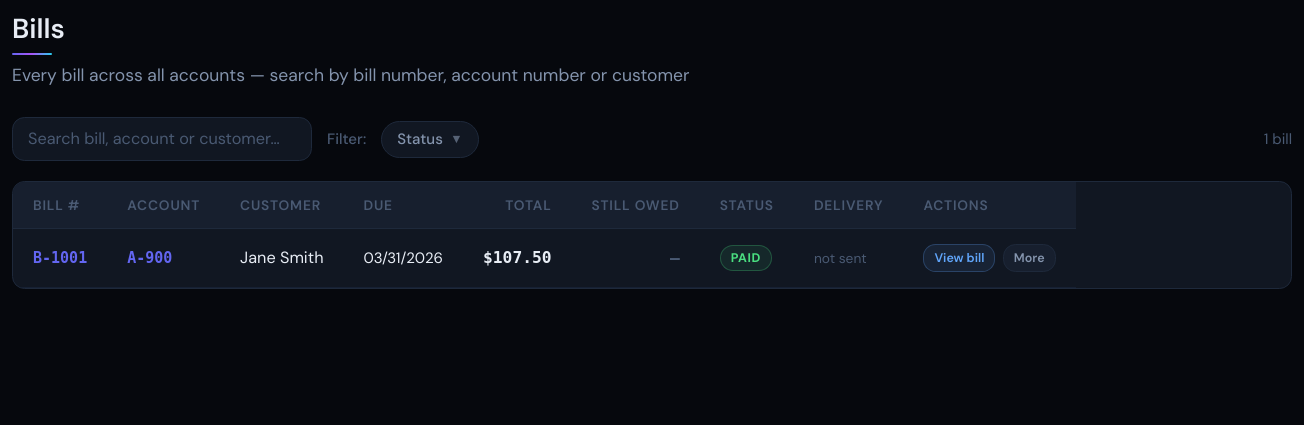
Test case: Bills page — bill document actions › omits Waive and Write off once the charge is settled
The image size is (1304, 425).
Click the button with aria-label "More actions" at {"x": 1029, "y": 258}, box [1003,244,1056,272]
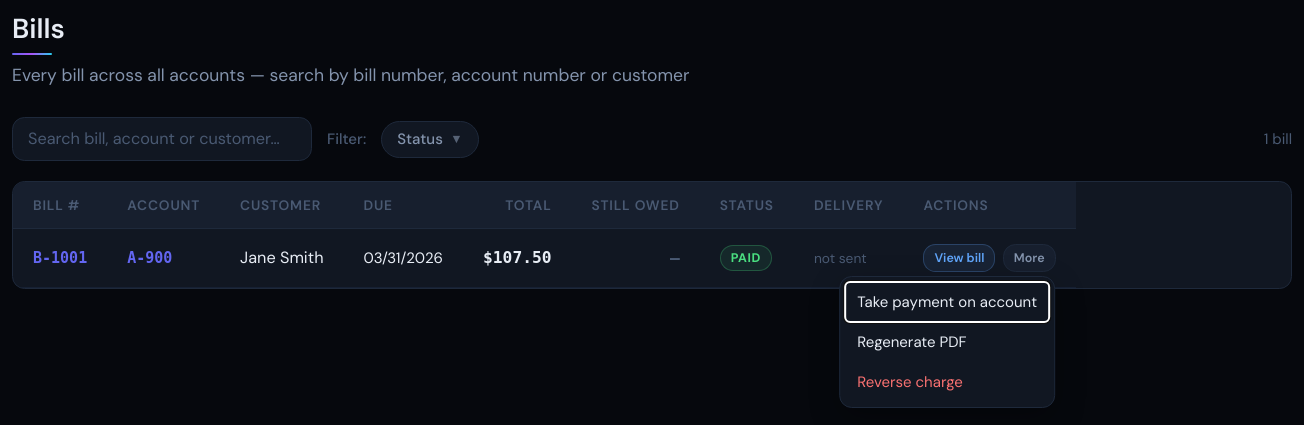
Check: the menu is shown, box [839,276,1056,408]
Check: the menu item "Reverse charge" is shown, box [845,362,1050,402]
